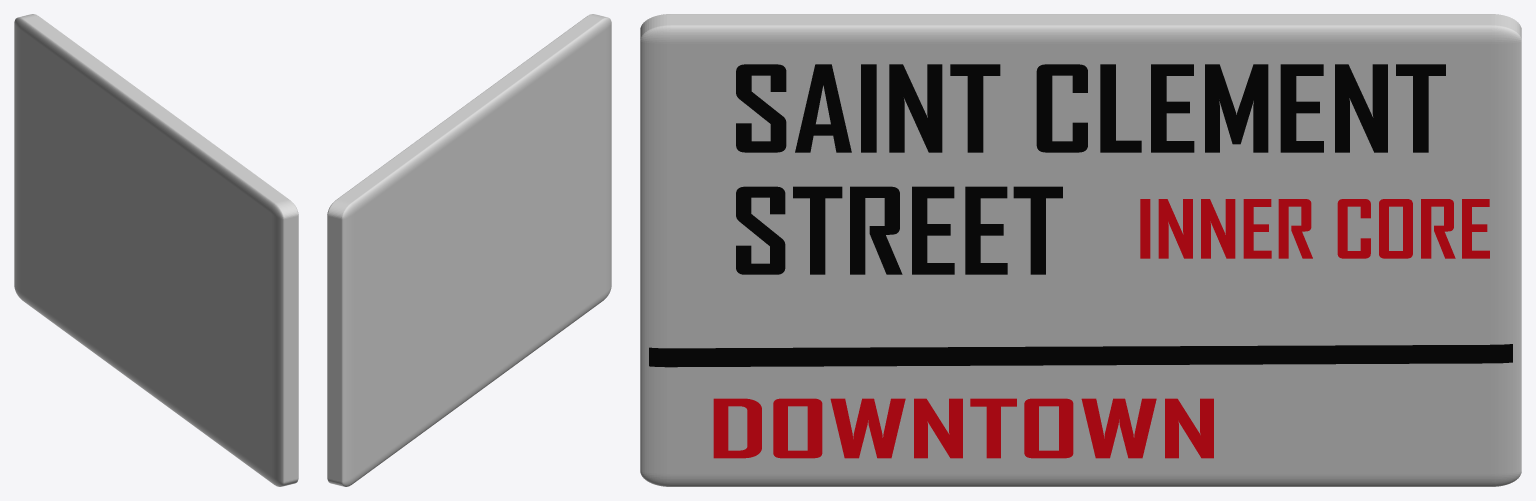
The model's file is uk_styled_street_sign.fbx.
The picture shows the model from 3 angles, left to right: view 1: azimuth 30°, elevation 25°; view 2: azimuth 150°, elevation 25°; view 3: azimuth 270°, elevation 25°; orthographic projection. The views are drawn at different scales.
Visible parts, largest first — view 1: Cube; view 2: Cube; view 3: Cube, Text, Text.002, Text.001, Text.003.
Boxes of the visible parts, x1,y1,x2,y2 form: Cube: (14, 14, 298, 486); Cube: (327, 14, 611, 486); Cube: (640, 14, 1521, 486); Text: (736, 64, 1445, 152); Text.002: (713, 398, 1213, 458); Text.001: (736, 186, 1062, 274); Text.003: (1140, 199, 1489, 258).
Size of the model in its own units: 1.63 by 20.07 by 34.74.
